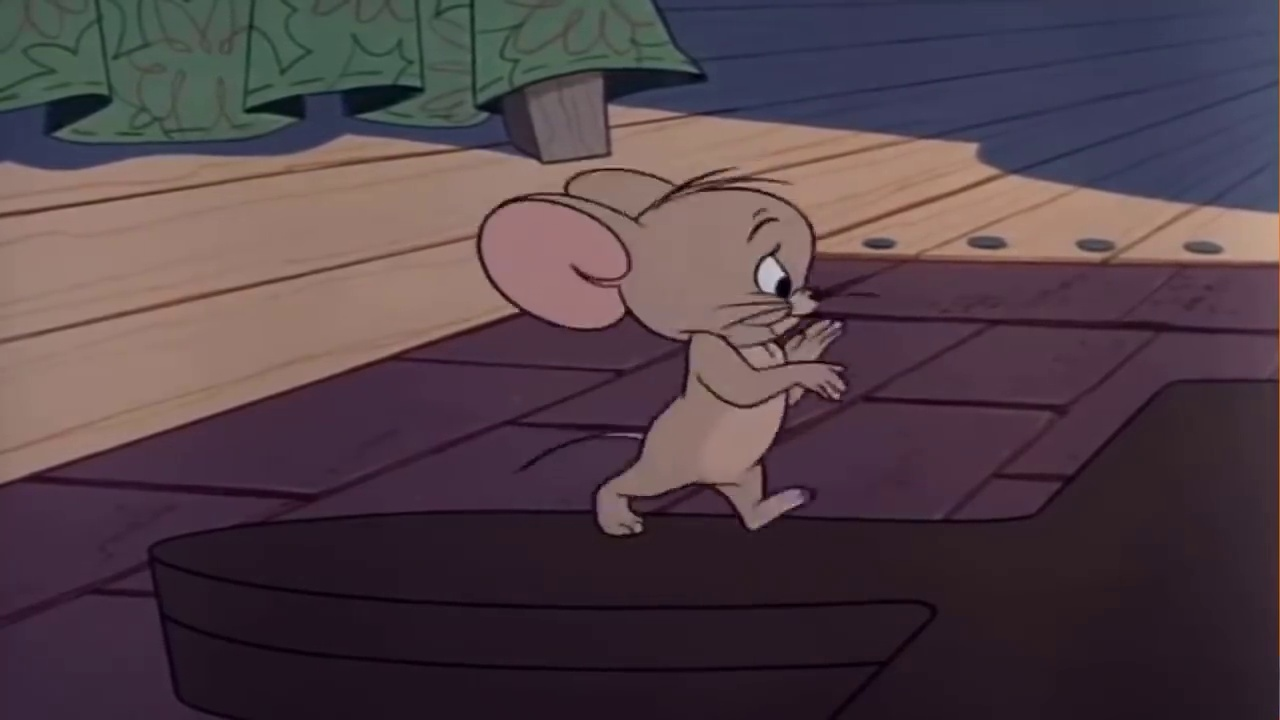face: (728, 202, 820, 348)
